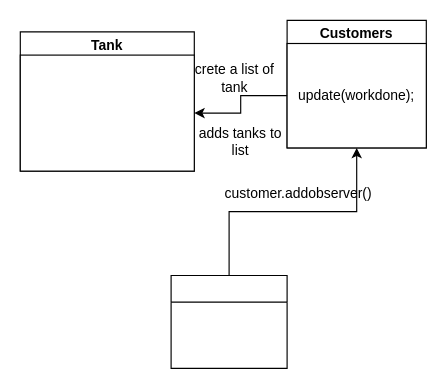
The diagram is 447 pixels wide and 389 high, and some of its shapes have lost their labels. The shapes that lost their labels are listed below. From the top down, each one's centre as x and y in pixels, then its label:
At point (106, 112): "addObserver() removeObserver() notifyObserver() setworkdone()".
At point (228, 321): "client".
